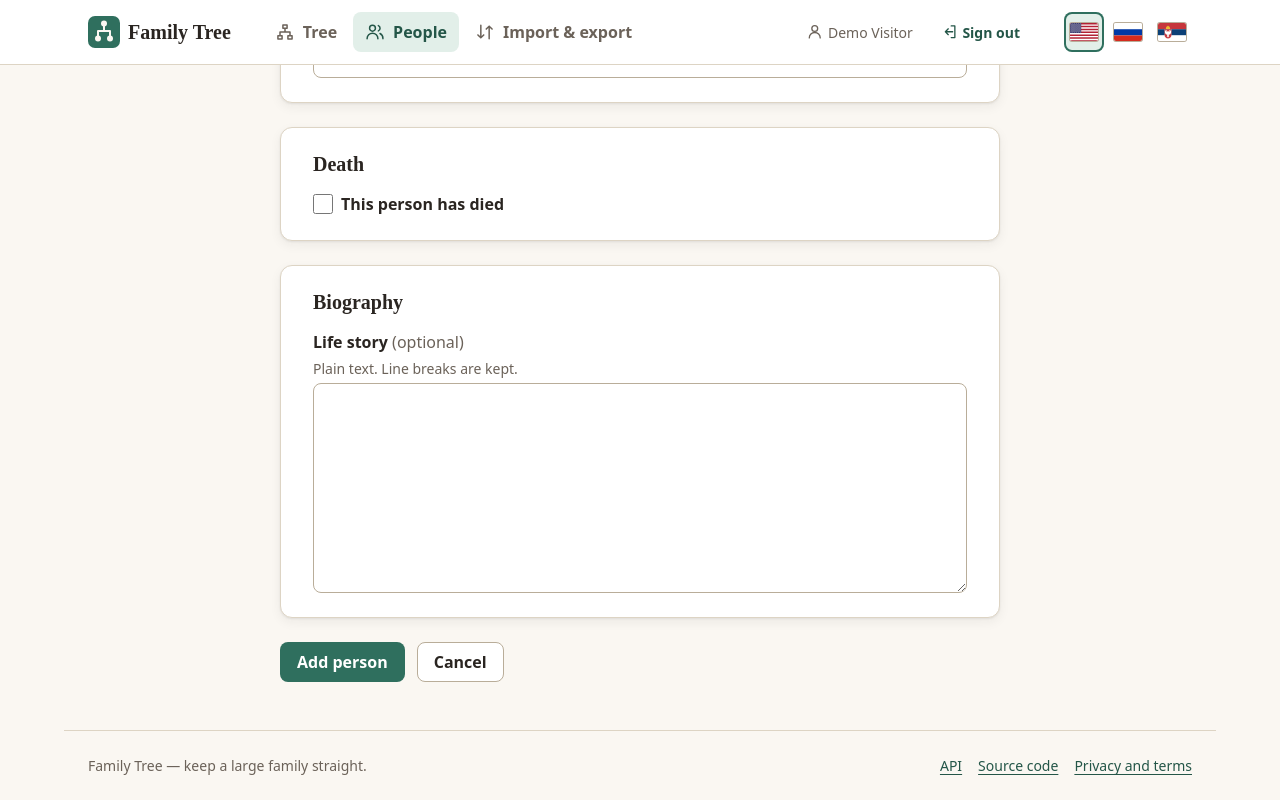
Test: a client-side form message follows the language after a failed submit
The image size is (1280, 800).
(page scrolled)
Step 1. Click the button "Add person" → (342,662), box [280, 642, 405, 682]
(page scrolled)
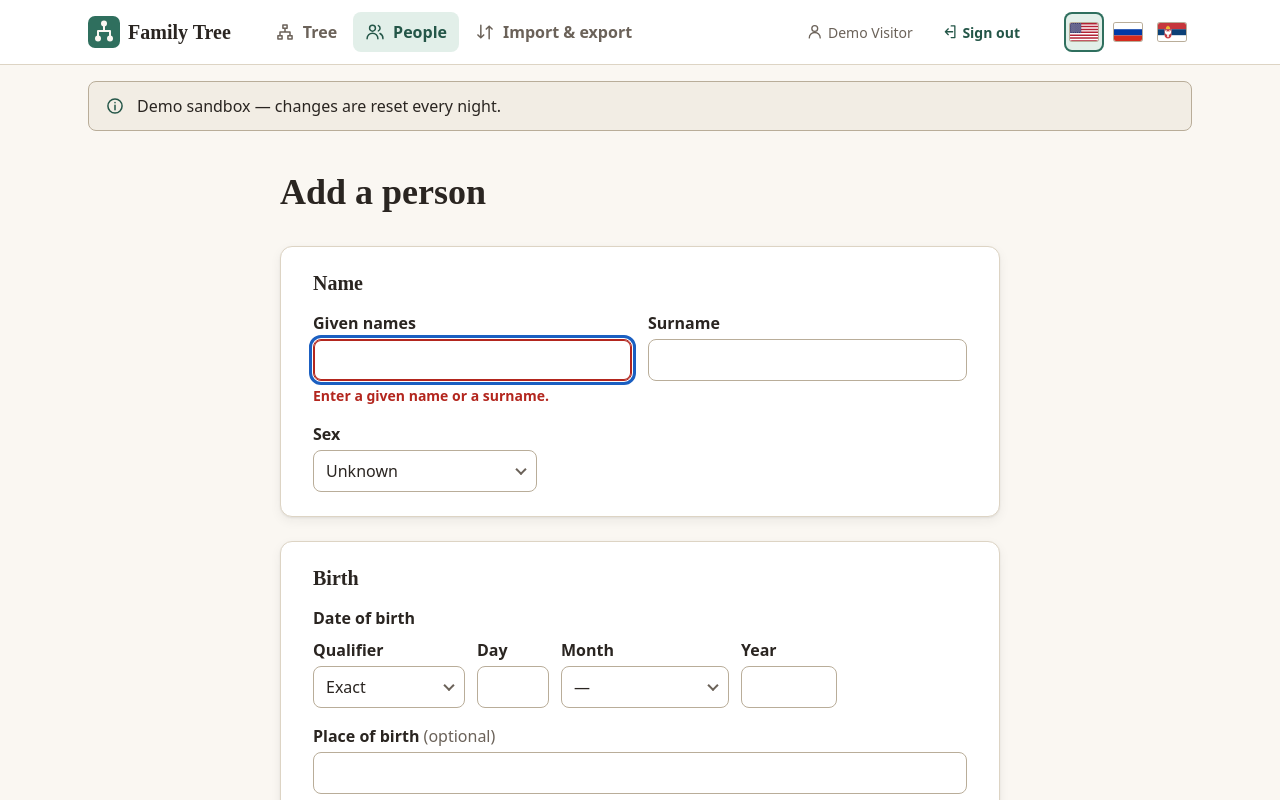
Result: the text "Enter a given name or a surname." is shown at [313, 386, 549, 405]
Step 2. Click the button named "Русский" → (1128,32), box [1108, 12, 1148, 52]
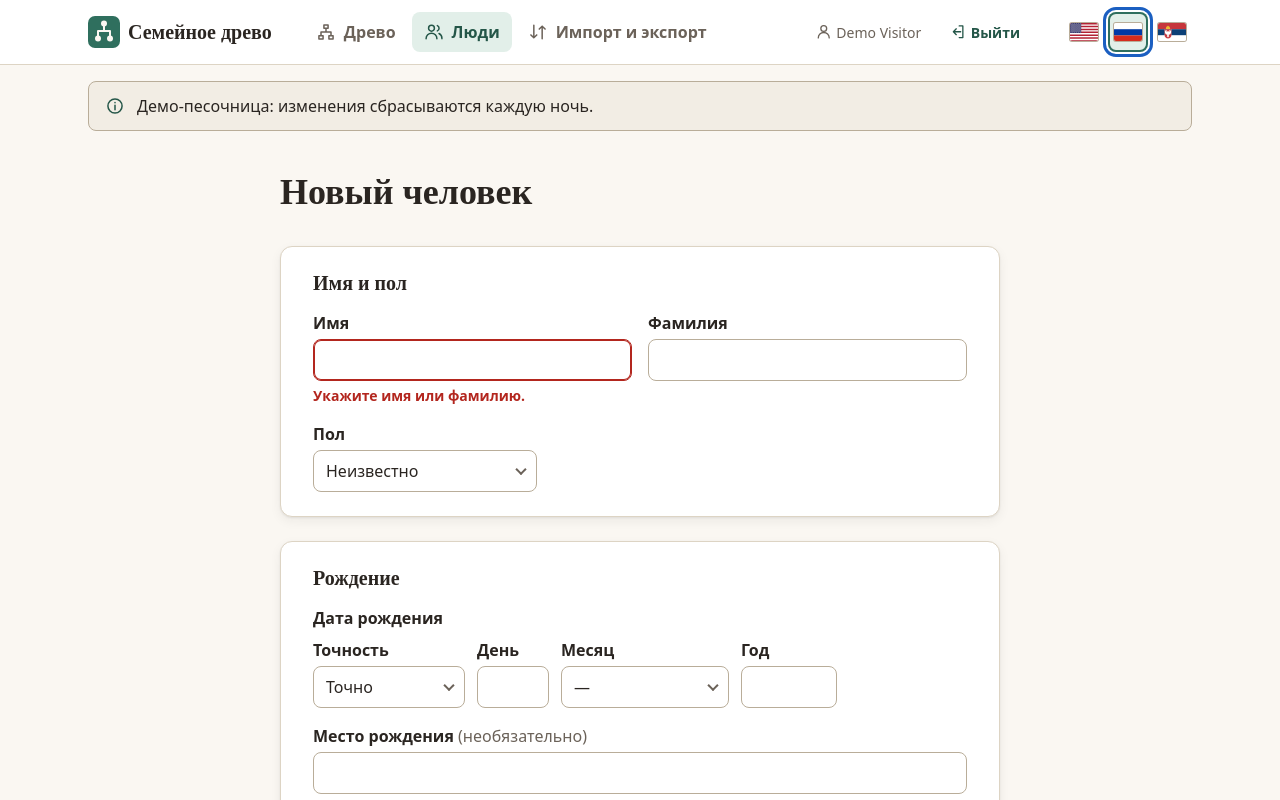
Result: the text "Укажите имя или фамилию." is shown at [313, 386, 525, 405]
